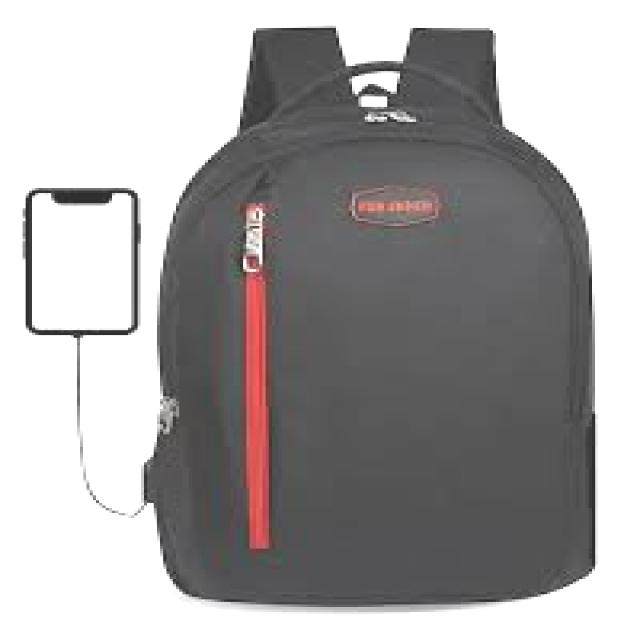backpack: (143, 19, 611, 617)
